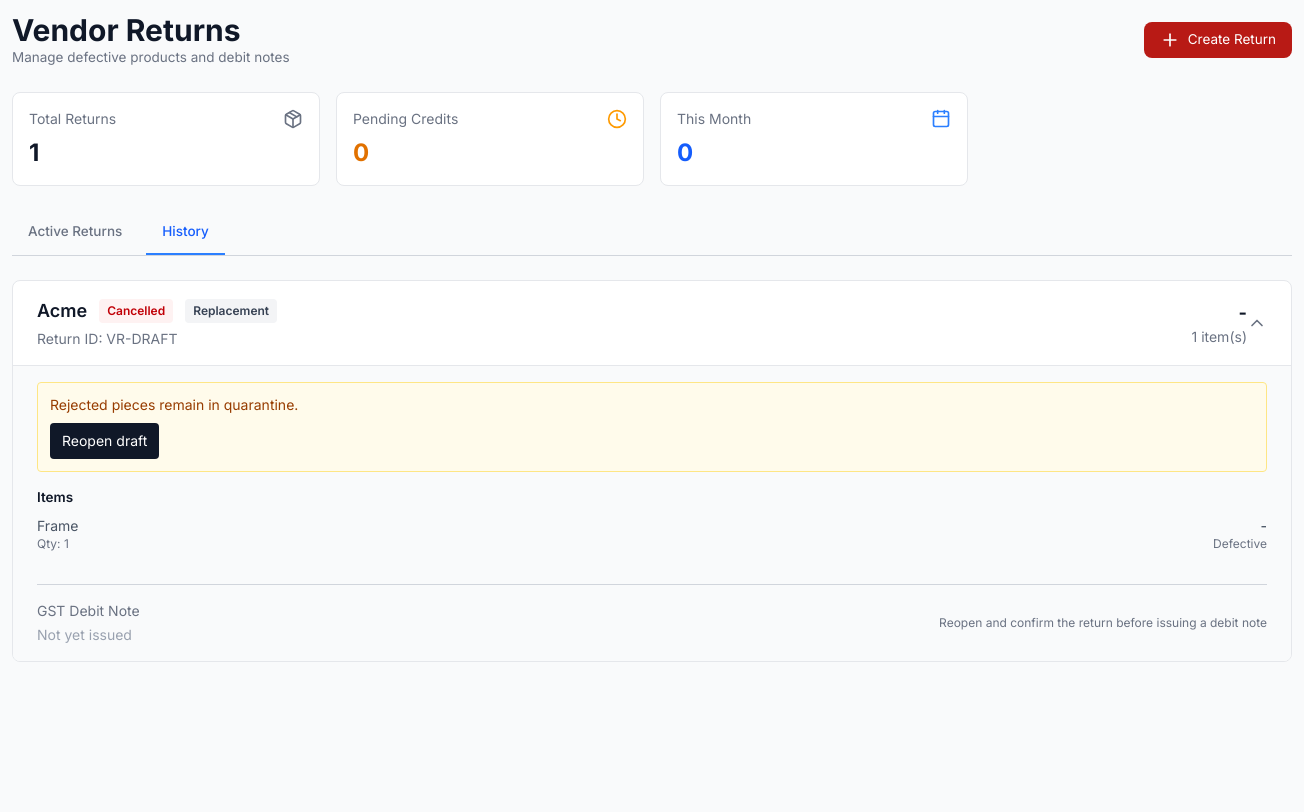
Test: receipt rejection draft handoff › reopens cancelled rejected custody on the same return and requires fresh confirmation
Click the button "Reopen draft" at [105, 441], box top-left (50, 423), bottom-right (159, 459)
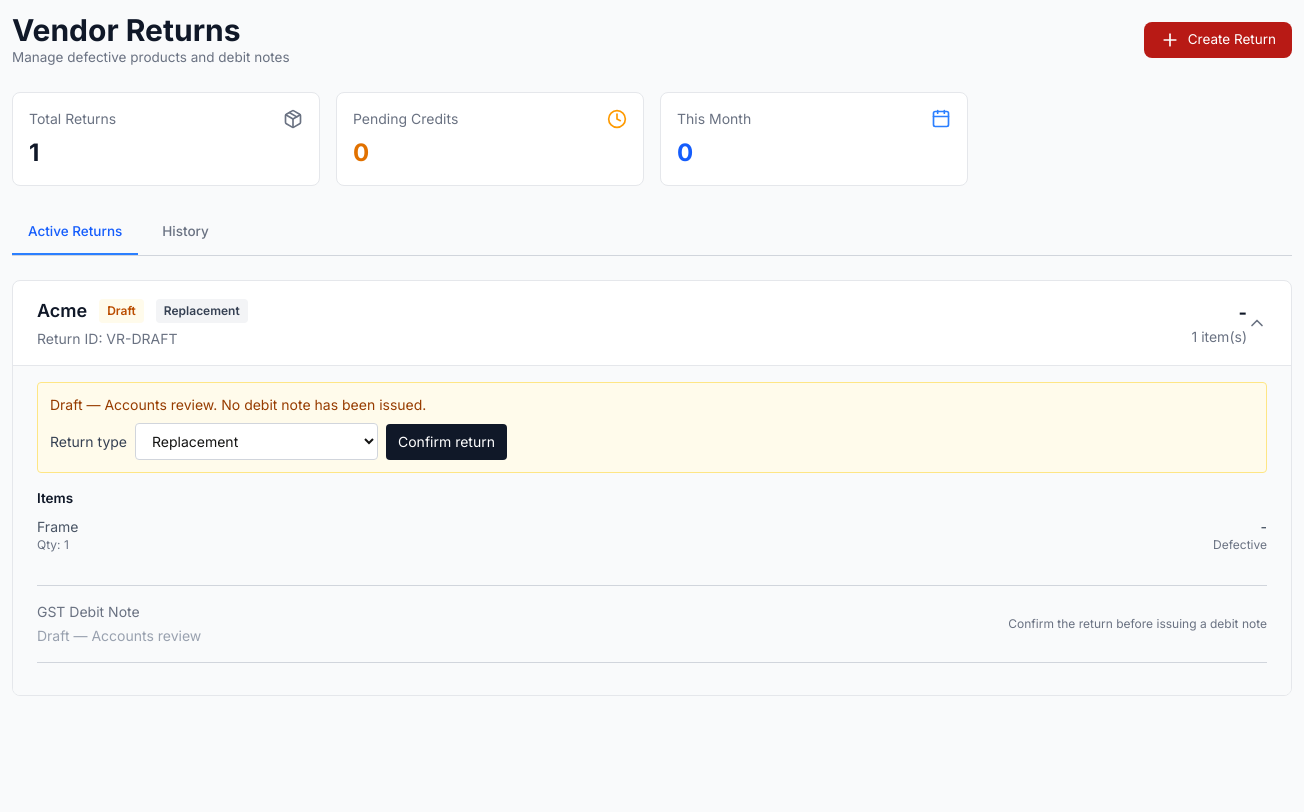
Check: the button "Confirm return" is shown, box top-left (386, 424), bottom-right (507, 460)
Check: the dropdown labelled "Return type" shows "Replacement", box top-left (135, 423), bottom-right (378, 460)
